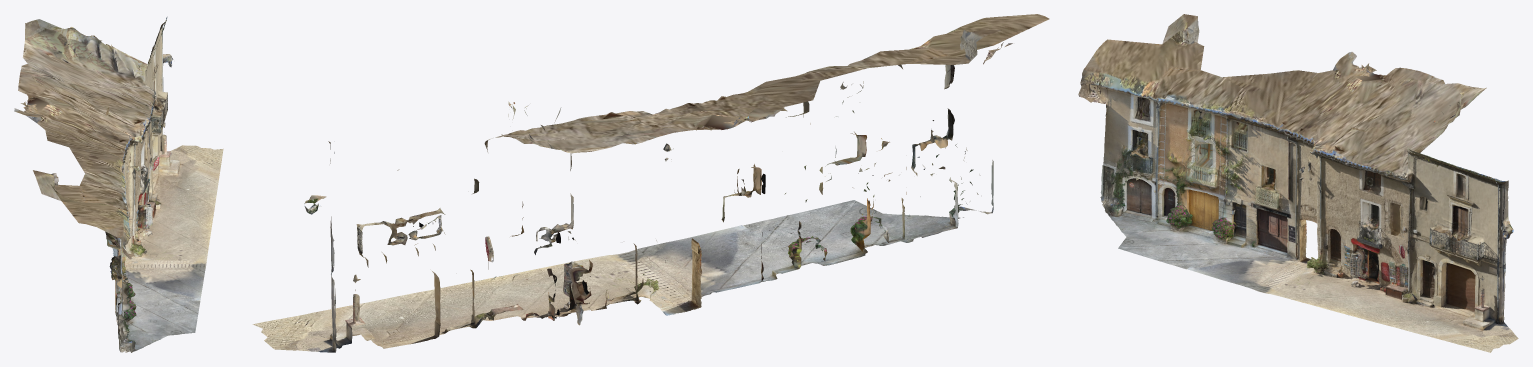
Rendered from medium.glb.
3 views of the same model, side by side, from view 1: azimuth 30°, elevation 25°; view 2: azimuth 150°, elevation 25°; view 3: azimuth 270°, elevation 25° (orthographic). The views are drawn at different scales.
Visible parts, largest first — view 1: medium; view 2: medium; view 3: medium.
Part boxes in pixels (left/top/right/bottom): medium: left=14, top=16, right=223, bottom=352; medium: left=252, top=14, right=1049, bottom=352; medium: left=1078, top=14, right=1518, bottom=352.
Size of the model in its own units: 22.31 by 11.9 by 24.38.
Materials: 1 (1 with a texture image).
